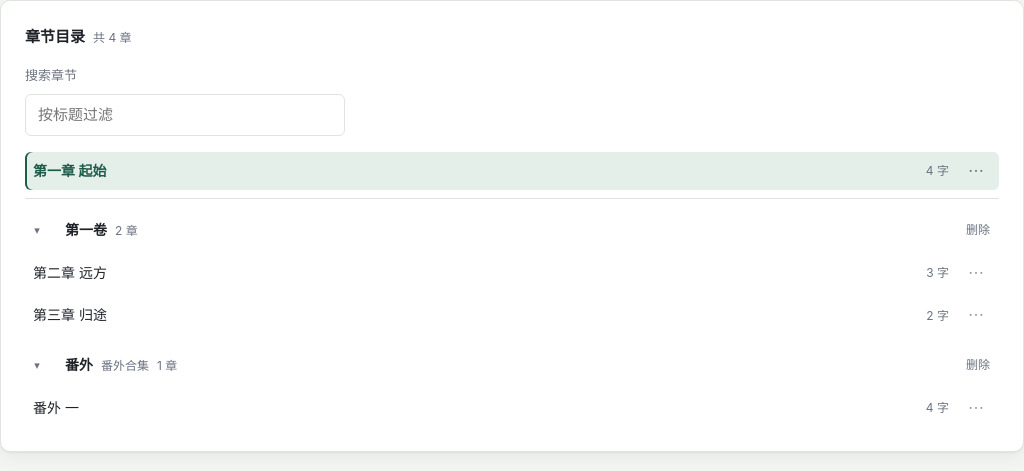
Test case: ChapterTree › filters by title and reports the match count
Type "第二章" into the search field with test id "search" at (185, 115), box x1=25 y1=94 x2=345 y2=136
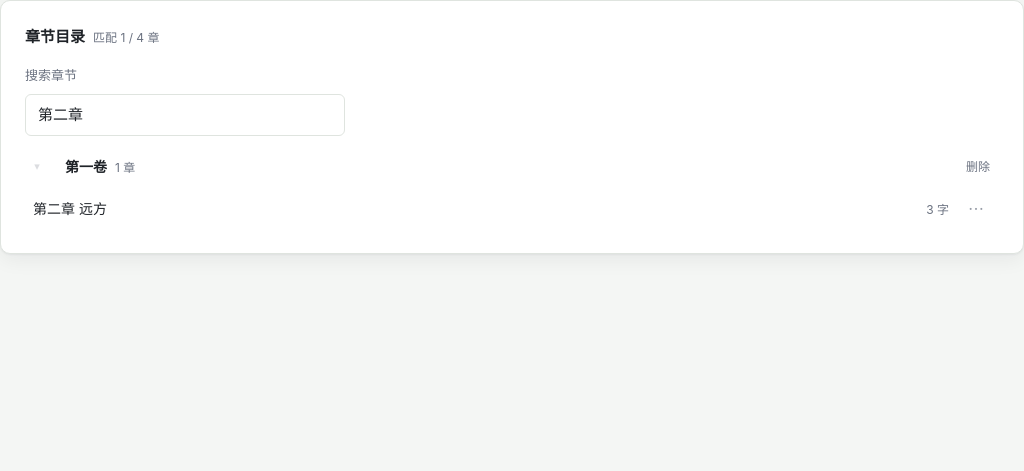
Check: the text with test id "chapter-count" shows "4", box x1=93 y1=30 x2=160 y2=45
Check: the text with test id "chapter-count" shows "1", box x1=93 y1=30 x2=160 y2=45
